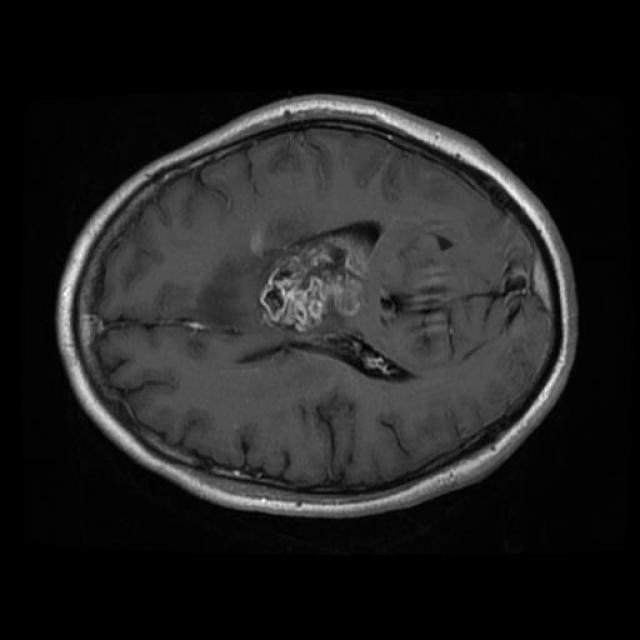Glioma: (260, 234, 368, 332)
